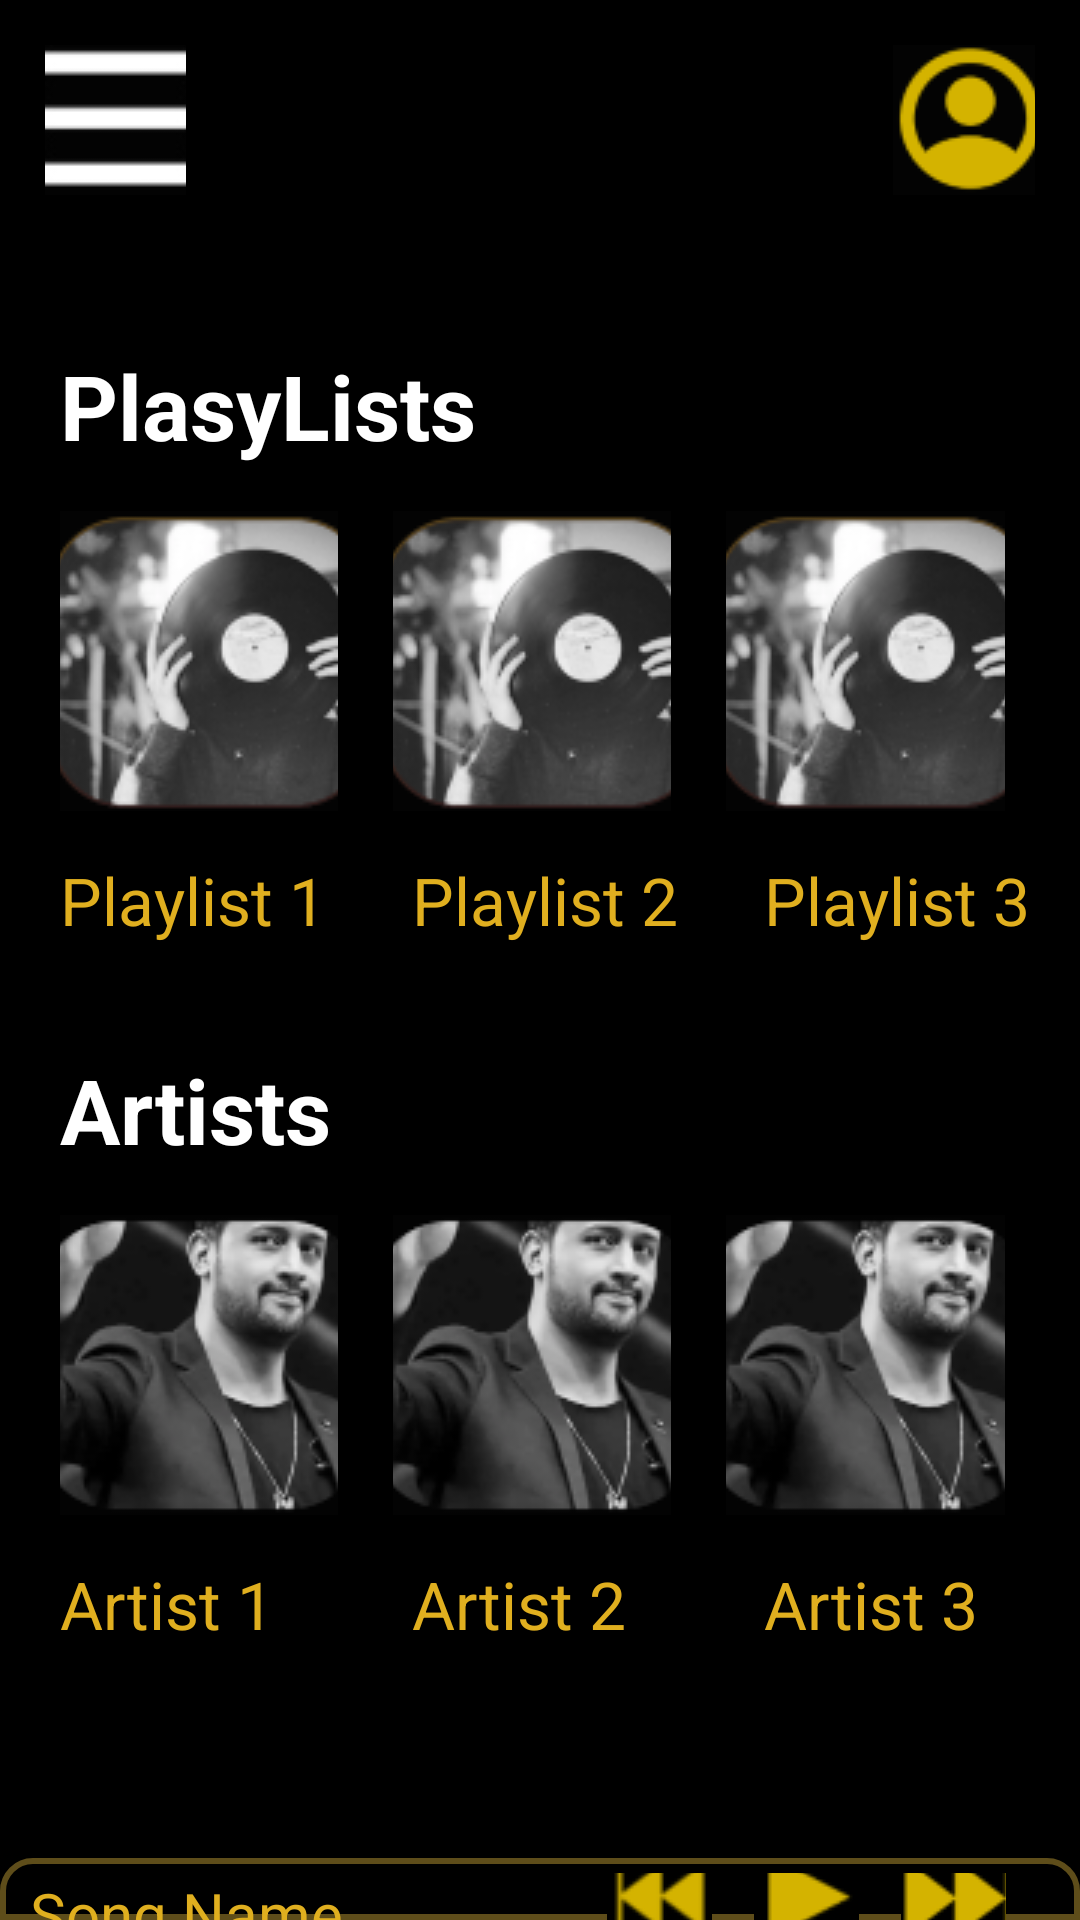

Point at icon controls on the screen. Image size 1080x1920, points as [x,y].
menu: [115,118]
nextsong: [954,1896]
person: [967,118]
playsong: [808,1896]
previous: [660,1896]
